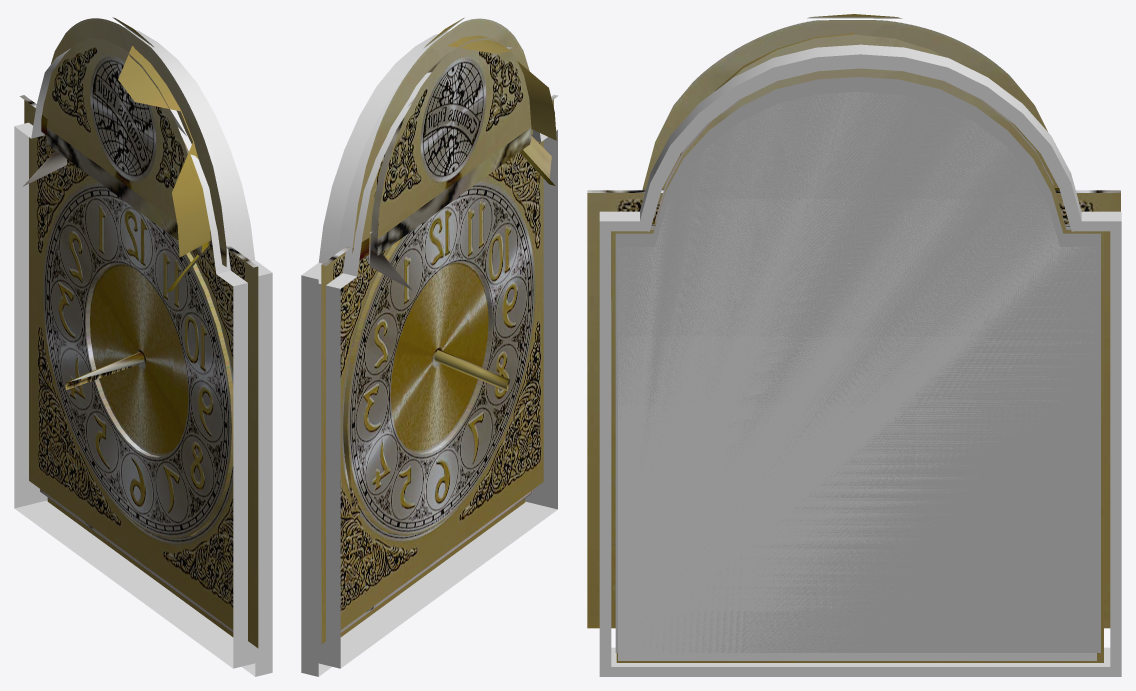
The model's file is clockface fun.fbx.
3 renders of one model, left to right at view 1: azimuth 30°, elevation 25°; view 2: azimuth 150°, elevation 25°; view 3: azimuth 270°, elevation 25°, orthographic. The views are drawn at different scales.
Visible parts, largest first — view 1: aa clock correct, gold edge front, clock face.001, clock face; view 2: aa clock correct, gold edge front, clock face.001, clock face; view 3: aa glass panel good, glass panel shader, gold edge front, aa clock correct, clock face.001.
Boxes of the visible parts, <box> form: aa clock correct: <box>19,17,258,648</box>; gold edge front: <box>14,27,272,676</box>; clock face.001: <box>47,497,233,636</box>; clock face: <box>40,489,233,632</box>; aa clock correct: <box>321,17,558,644</box>; gold edge front: <box>301,31,557,676</box>; clock face.001: <box>340,498,525,636</box>; clock face: <box>340,218,533,632</box>; aa glass panel good: <box>615,77,1100,652</box>; glass panel shader: <box>618,92,1096,660</box>; gold edge front: <box>599,44,1121,676</box>; aa clock correct: <box>587,14,1120,628</box>; clock face.001: <box>616,68,1103,662</box>.
Bounding box in the file's own units: 44.87 × 260 × 194.
